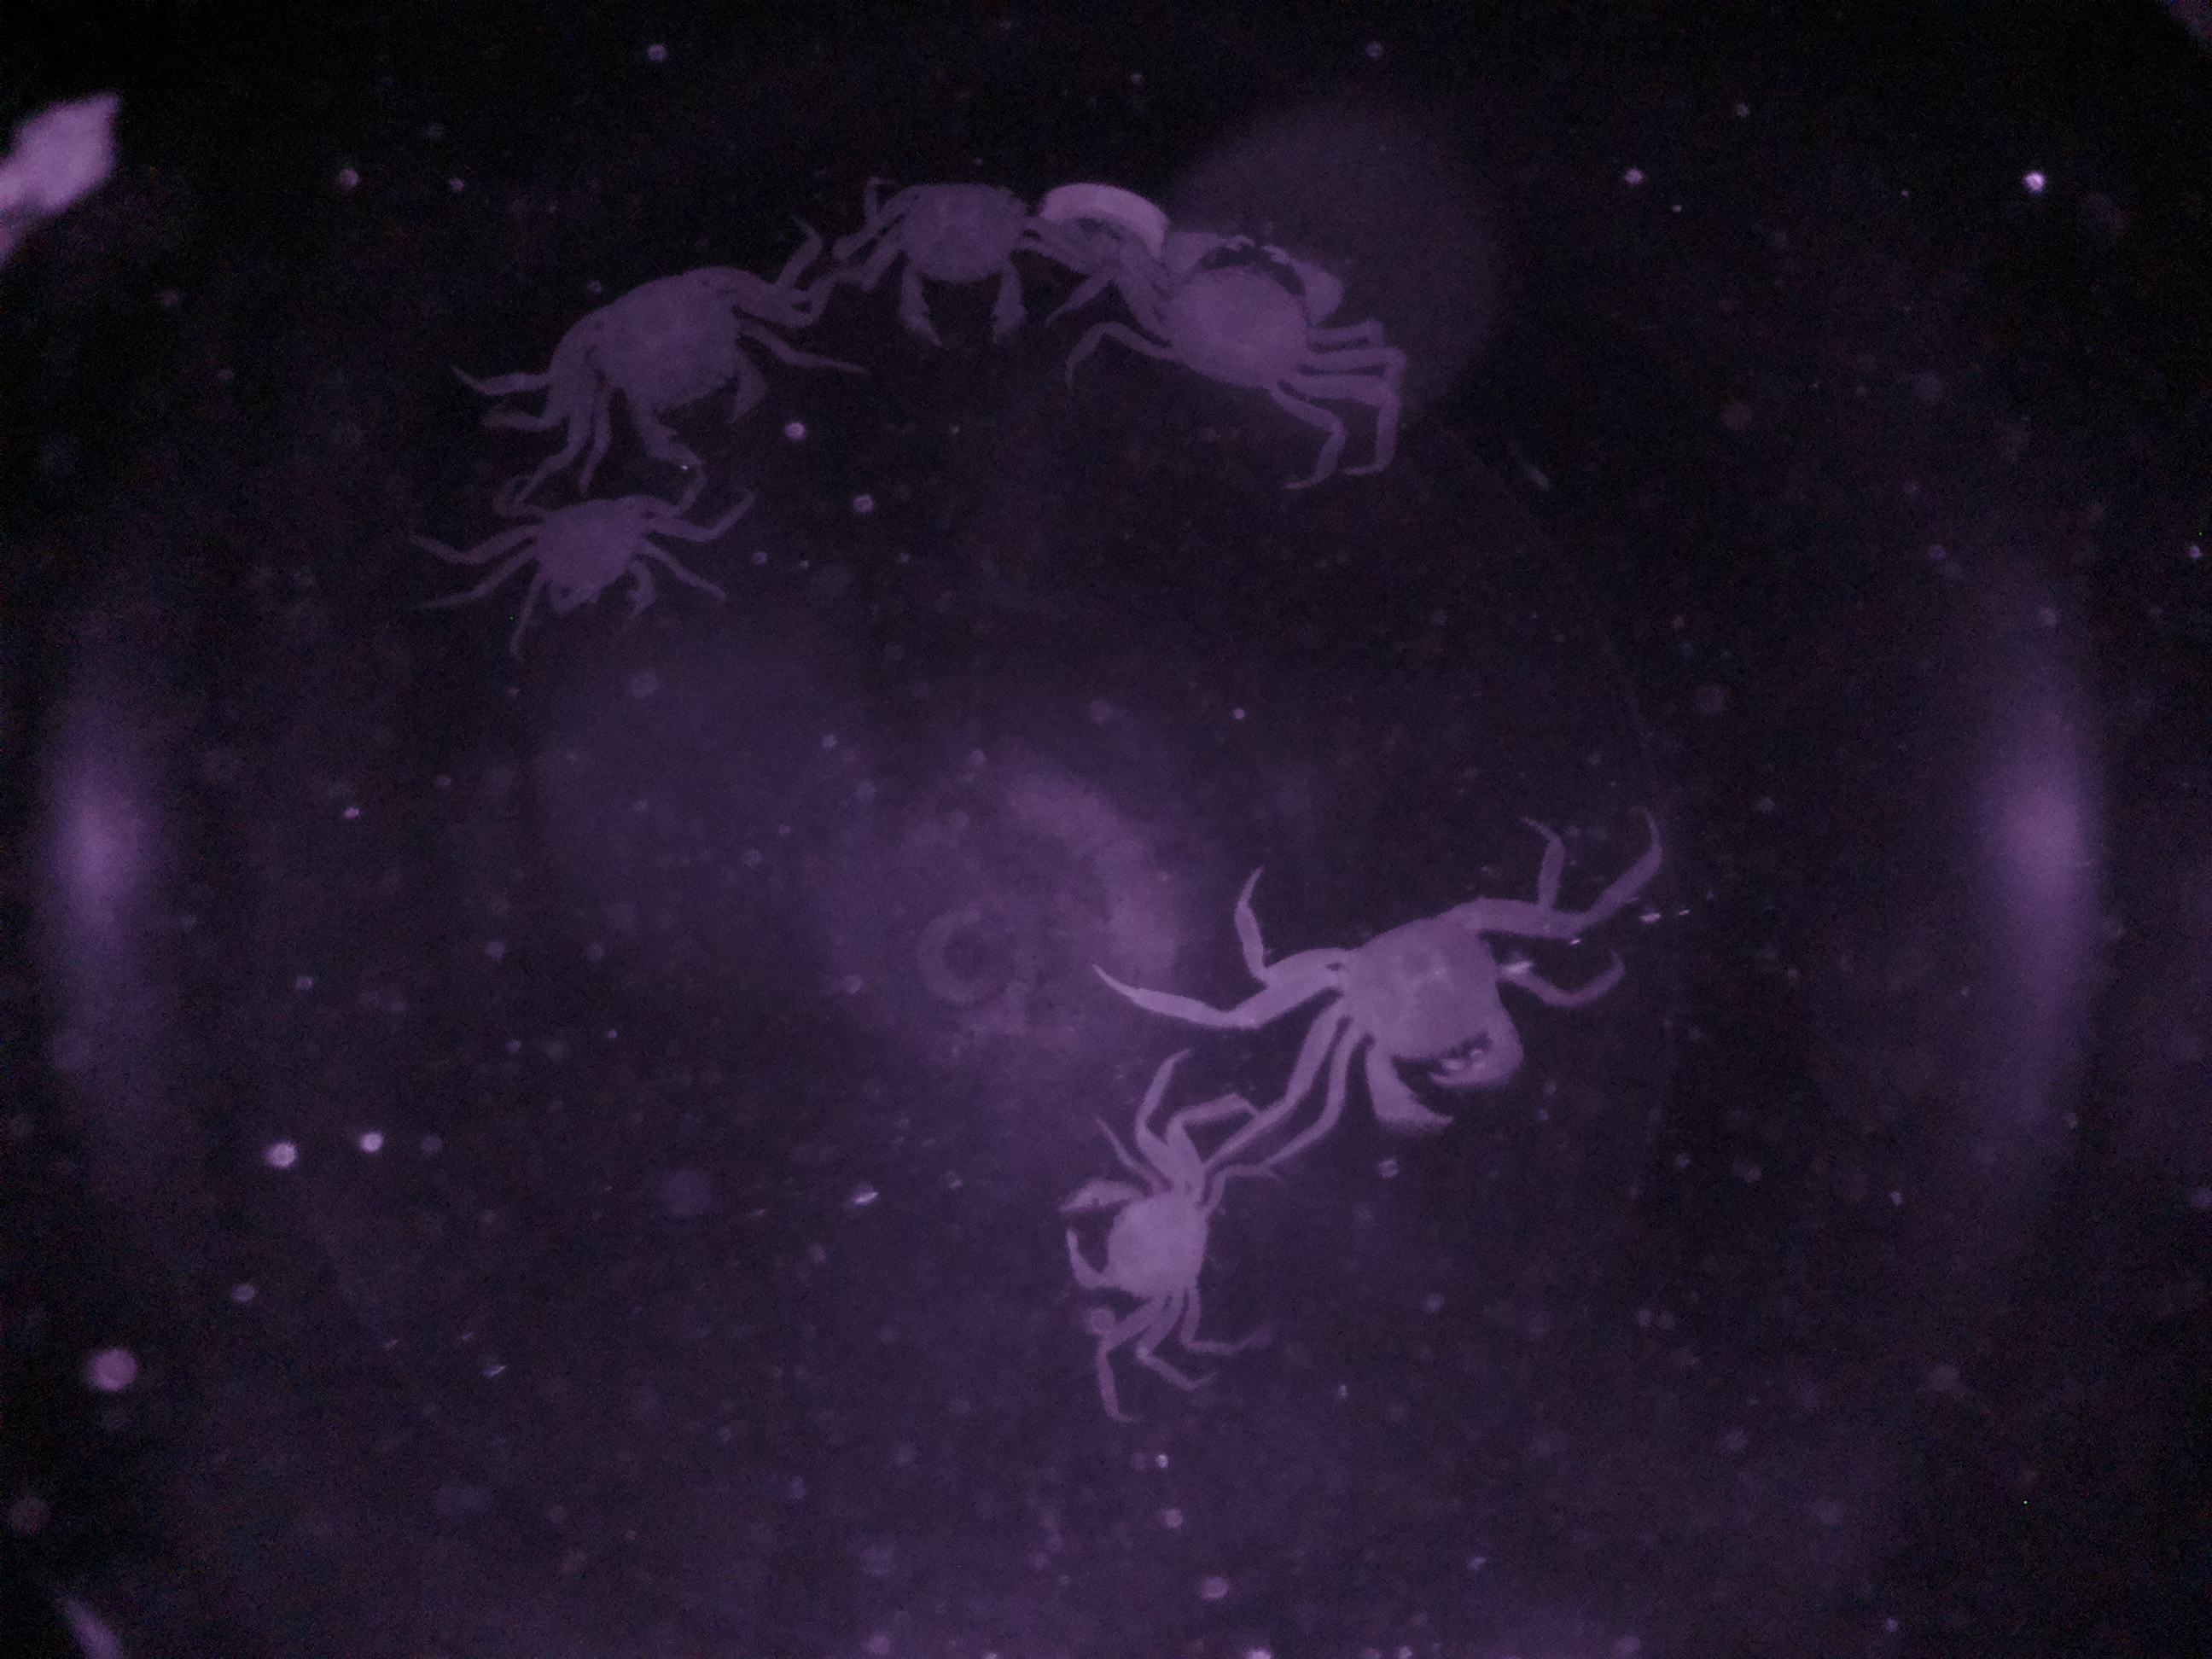Crab: (1306, 882, 1533, 1175), (1125, 214, 1369, 448), (543, 232, 777, 467), (1040, 1121, 1223, 1344), (845, 164, 1052, 359), (481, 474, 685, 647)
